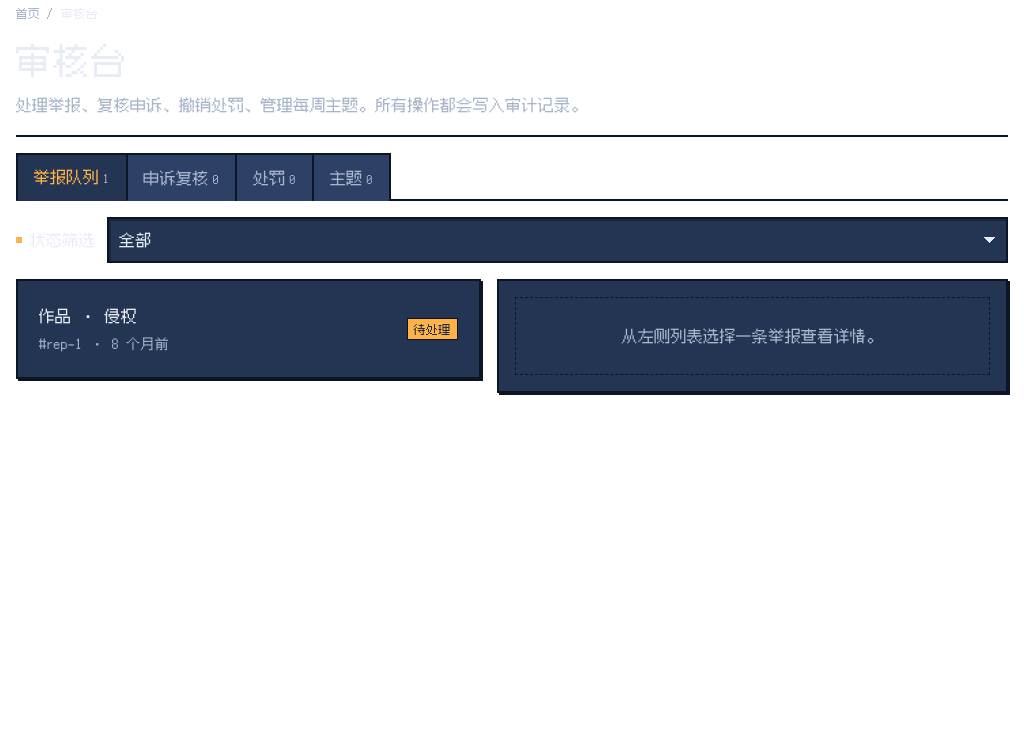
Test: 举报队列 › 点击队列项加载详情：目标快照 + 审计时间线空态
Check: the text "从左侧列表选择一条举报查看详情。" is shown, box [515, 297, 990, 375]
Step 1. Click the button "作品 · 侵权 #rep-1 · 8 个月前 待处理" → (55, 315), box [26, 289, 471, 369]
(page scrolled)
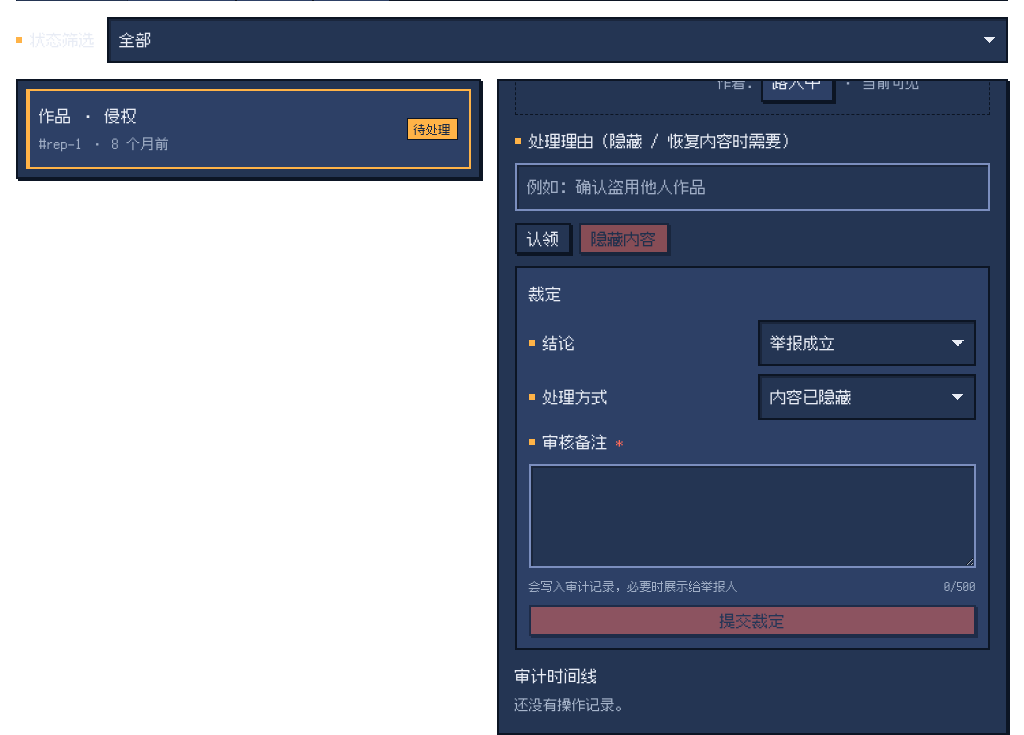
Check: the text "还没有操作记录。" is shown, box [515, 695, 629, 714]
